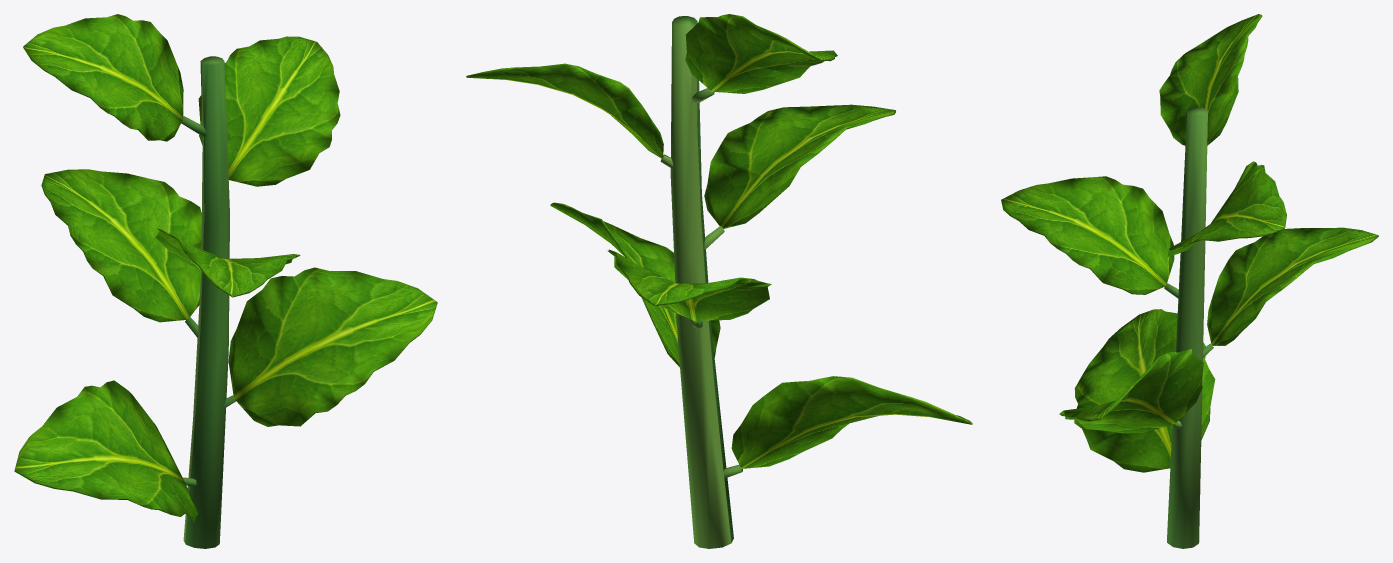
Rendered from NP_Sunflower_Young_LOD1.fbx.
3 renders of one model, left to right at view 1: azimuth 30°, elevation 25°; view 2: azimuth 150°, elevation 25°; view 3: azimuth 270°, elevation 25°, orthographic. The views are drawn at different scales.
Visible parts, largest first — view 1: NP_Sunflower_Young; view 2: NP_Sunflower_Young; view 3: NP_Sunflower_Young.
Boxes of the visible parts, x1=… form: NP_Sunflower_Young: x1=14, y1=14, x2=437, y2=548; NP_Sunflower_Young: x1=466, y1=14, x2=972, y2=548; NP_Sunflower_Young: x1=1001, y1=14, x2=1378, y2=548.
Bounding box in the file's own units: 35.8 × 43.84 × 31.31.
